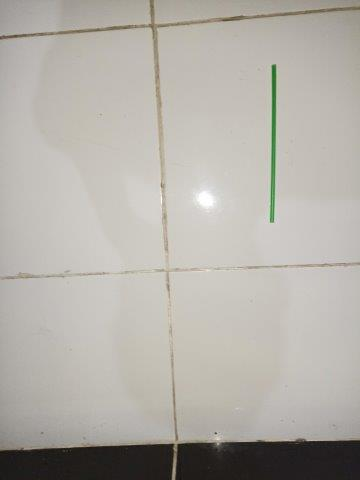sedotan: (269, 64, 276, 222)
